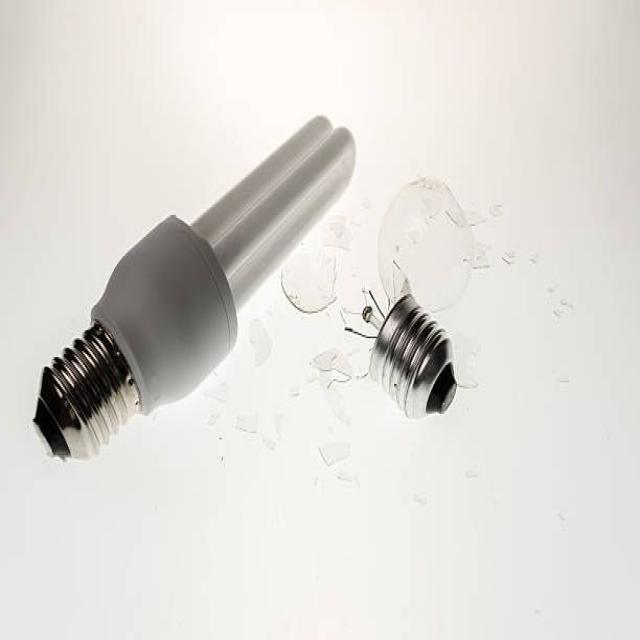electronic: (31, 112, 356, 462), (375, 174, 475, 313), (367, 291, 457, 419)
